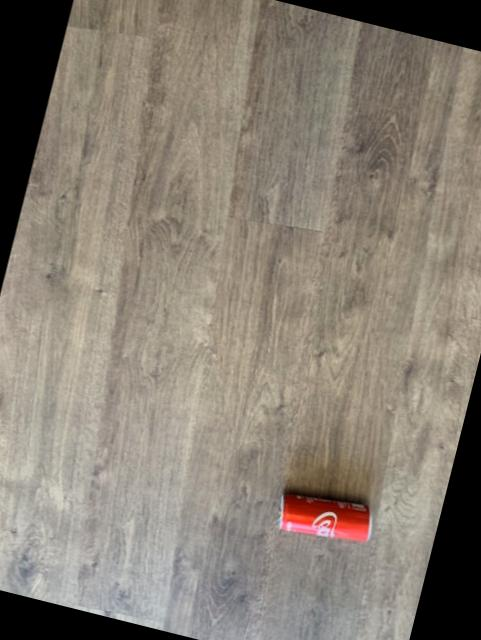metal: (280, 492, 372, 539)
